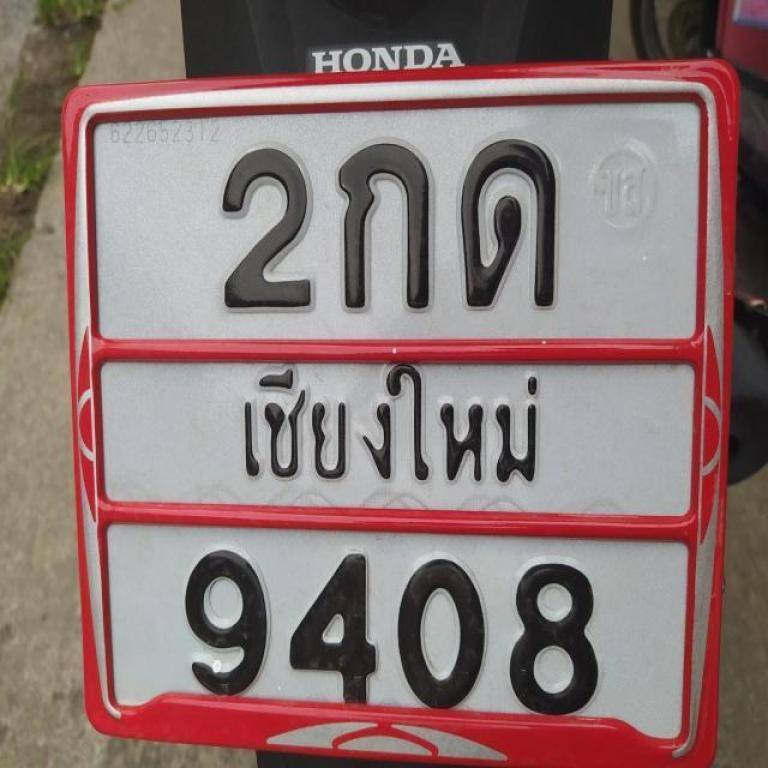license plate: (58, 79, 729, 756)
